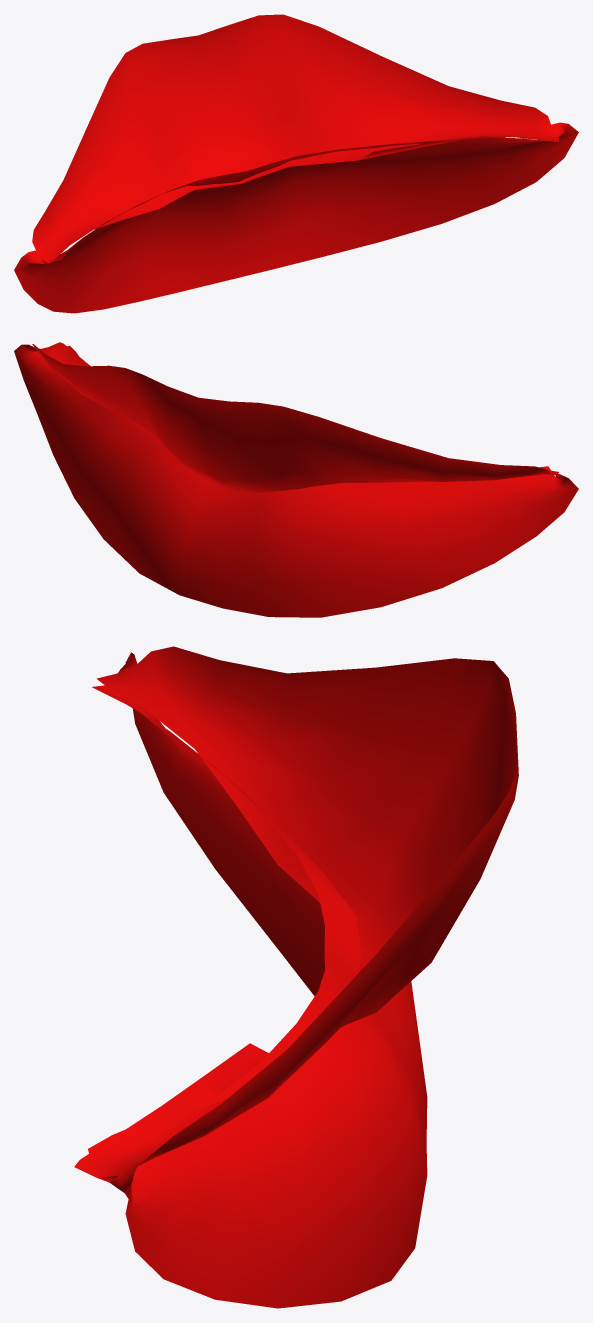
File: lips.fbx
The picture shows the model from 3 angles, top to bottom: view 1: azimuth 30°, elevation 25°; view 2: azimuth 150°, elevation 25°; view 3: azimuth 270°, elevation 25°; orthographic projection. The views are drawn at different scales.
Parts seen in each view (by area): view 1: Body_1; view 2: Body_1; view 3: Body_1.
Part boxes in pixels (x1,y1,x2,y2): Body_1: (14, 14, 578, 313); Body_1: (14, 342, 578, 617); Body_1: (74, 646, 518, 1308).
Bounding box in the file's own units: 5.18 × 2.07 × 1.77.
